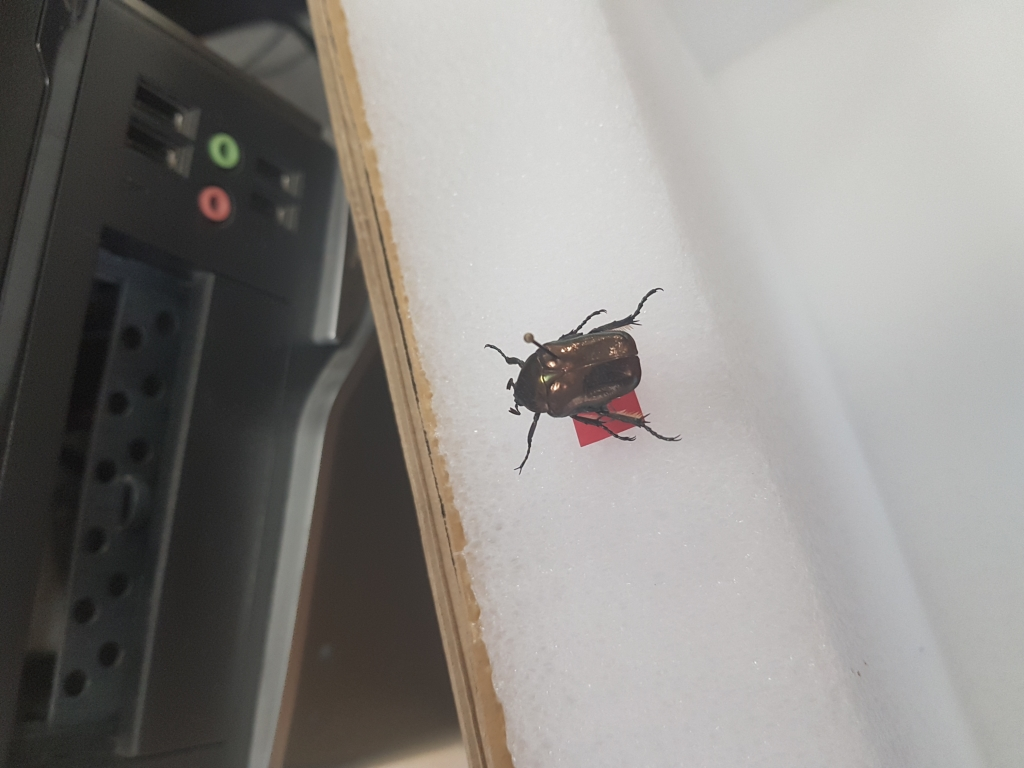Protaetia_besucheti: (489, 275, 698, 480)
